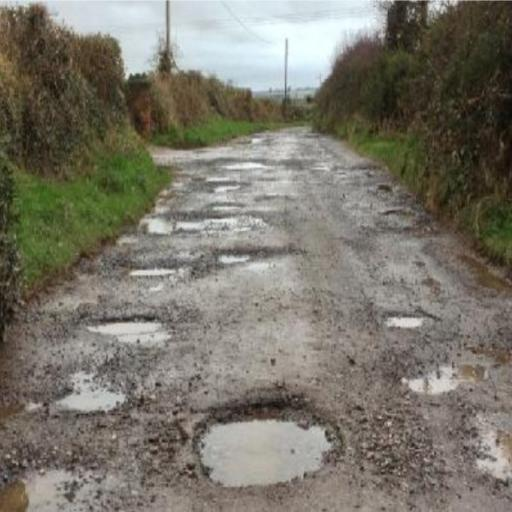entrance: (200, 420, 332, 486), (56, 372, 125, 412), (88, 322, 169, 346)
phone: (284, 38, 287, 115)
ramp: (0, 128, 511, 511)
